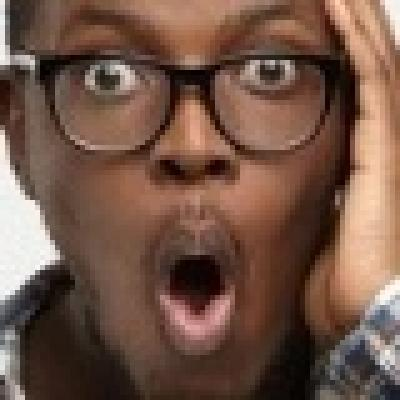surprise: (41, 3, 351, 392)
